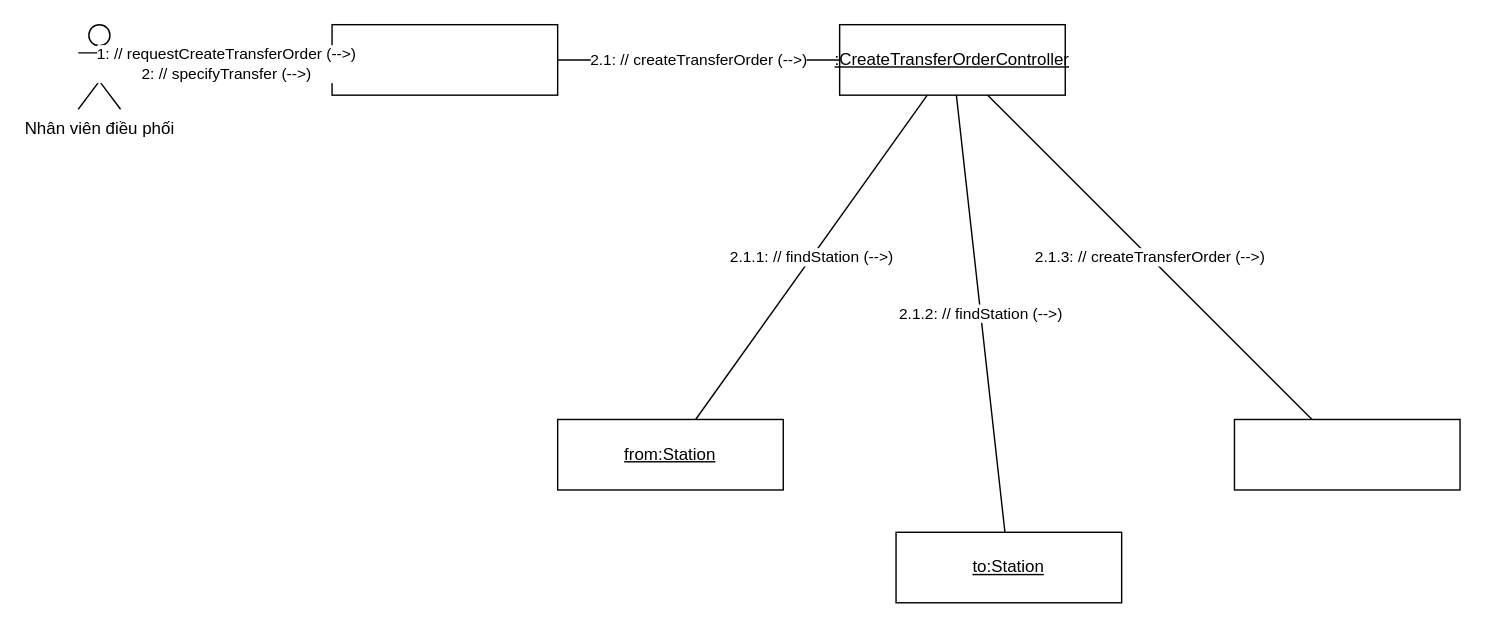
The diagram is 1485 pixels wide and 627 high, and some of its shapes have lost their labels. The centre of each missing label's shape, as x and y in pixels:
":CreateTransferOrderForm" belongs at pixel 444 59.
":TransferOrder" belongs at pixel 1346 454.
